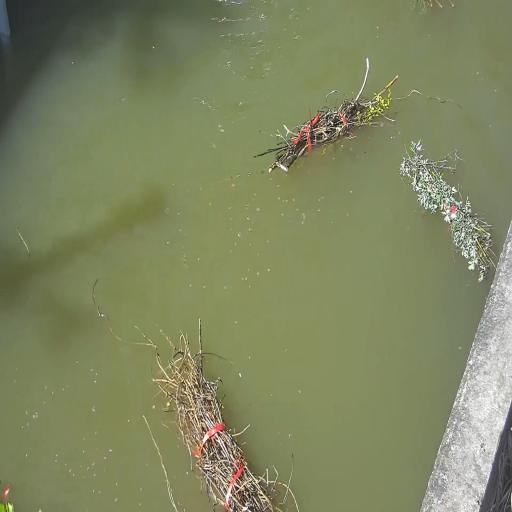twig: (153, 319, 294, 512), (254, 58, 398, 172), (399, 140, 493, 282)
